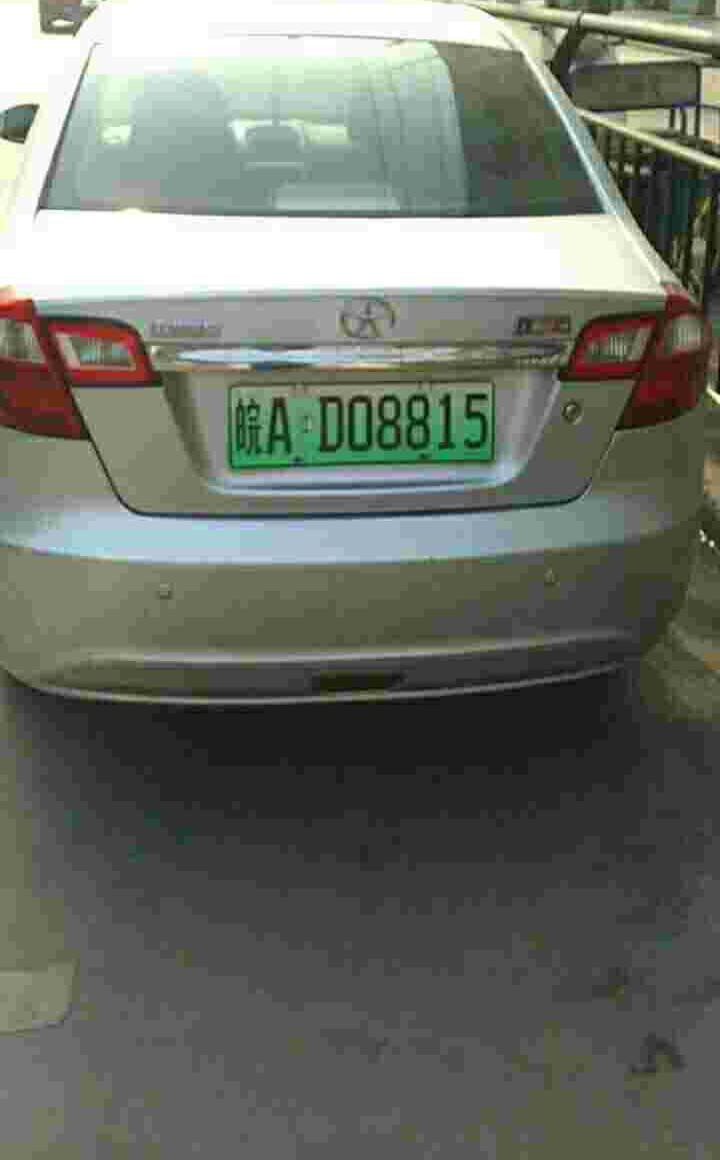car: (216, 379, 503, 466)
